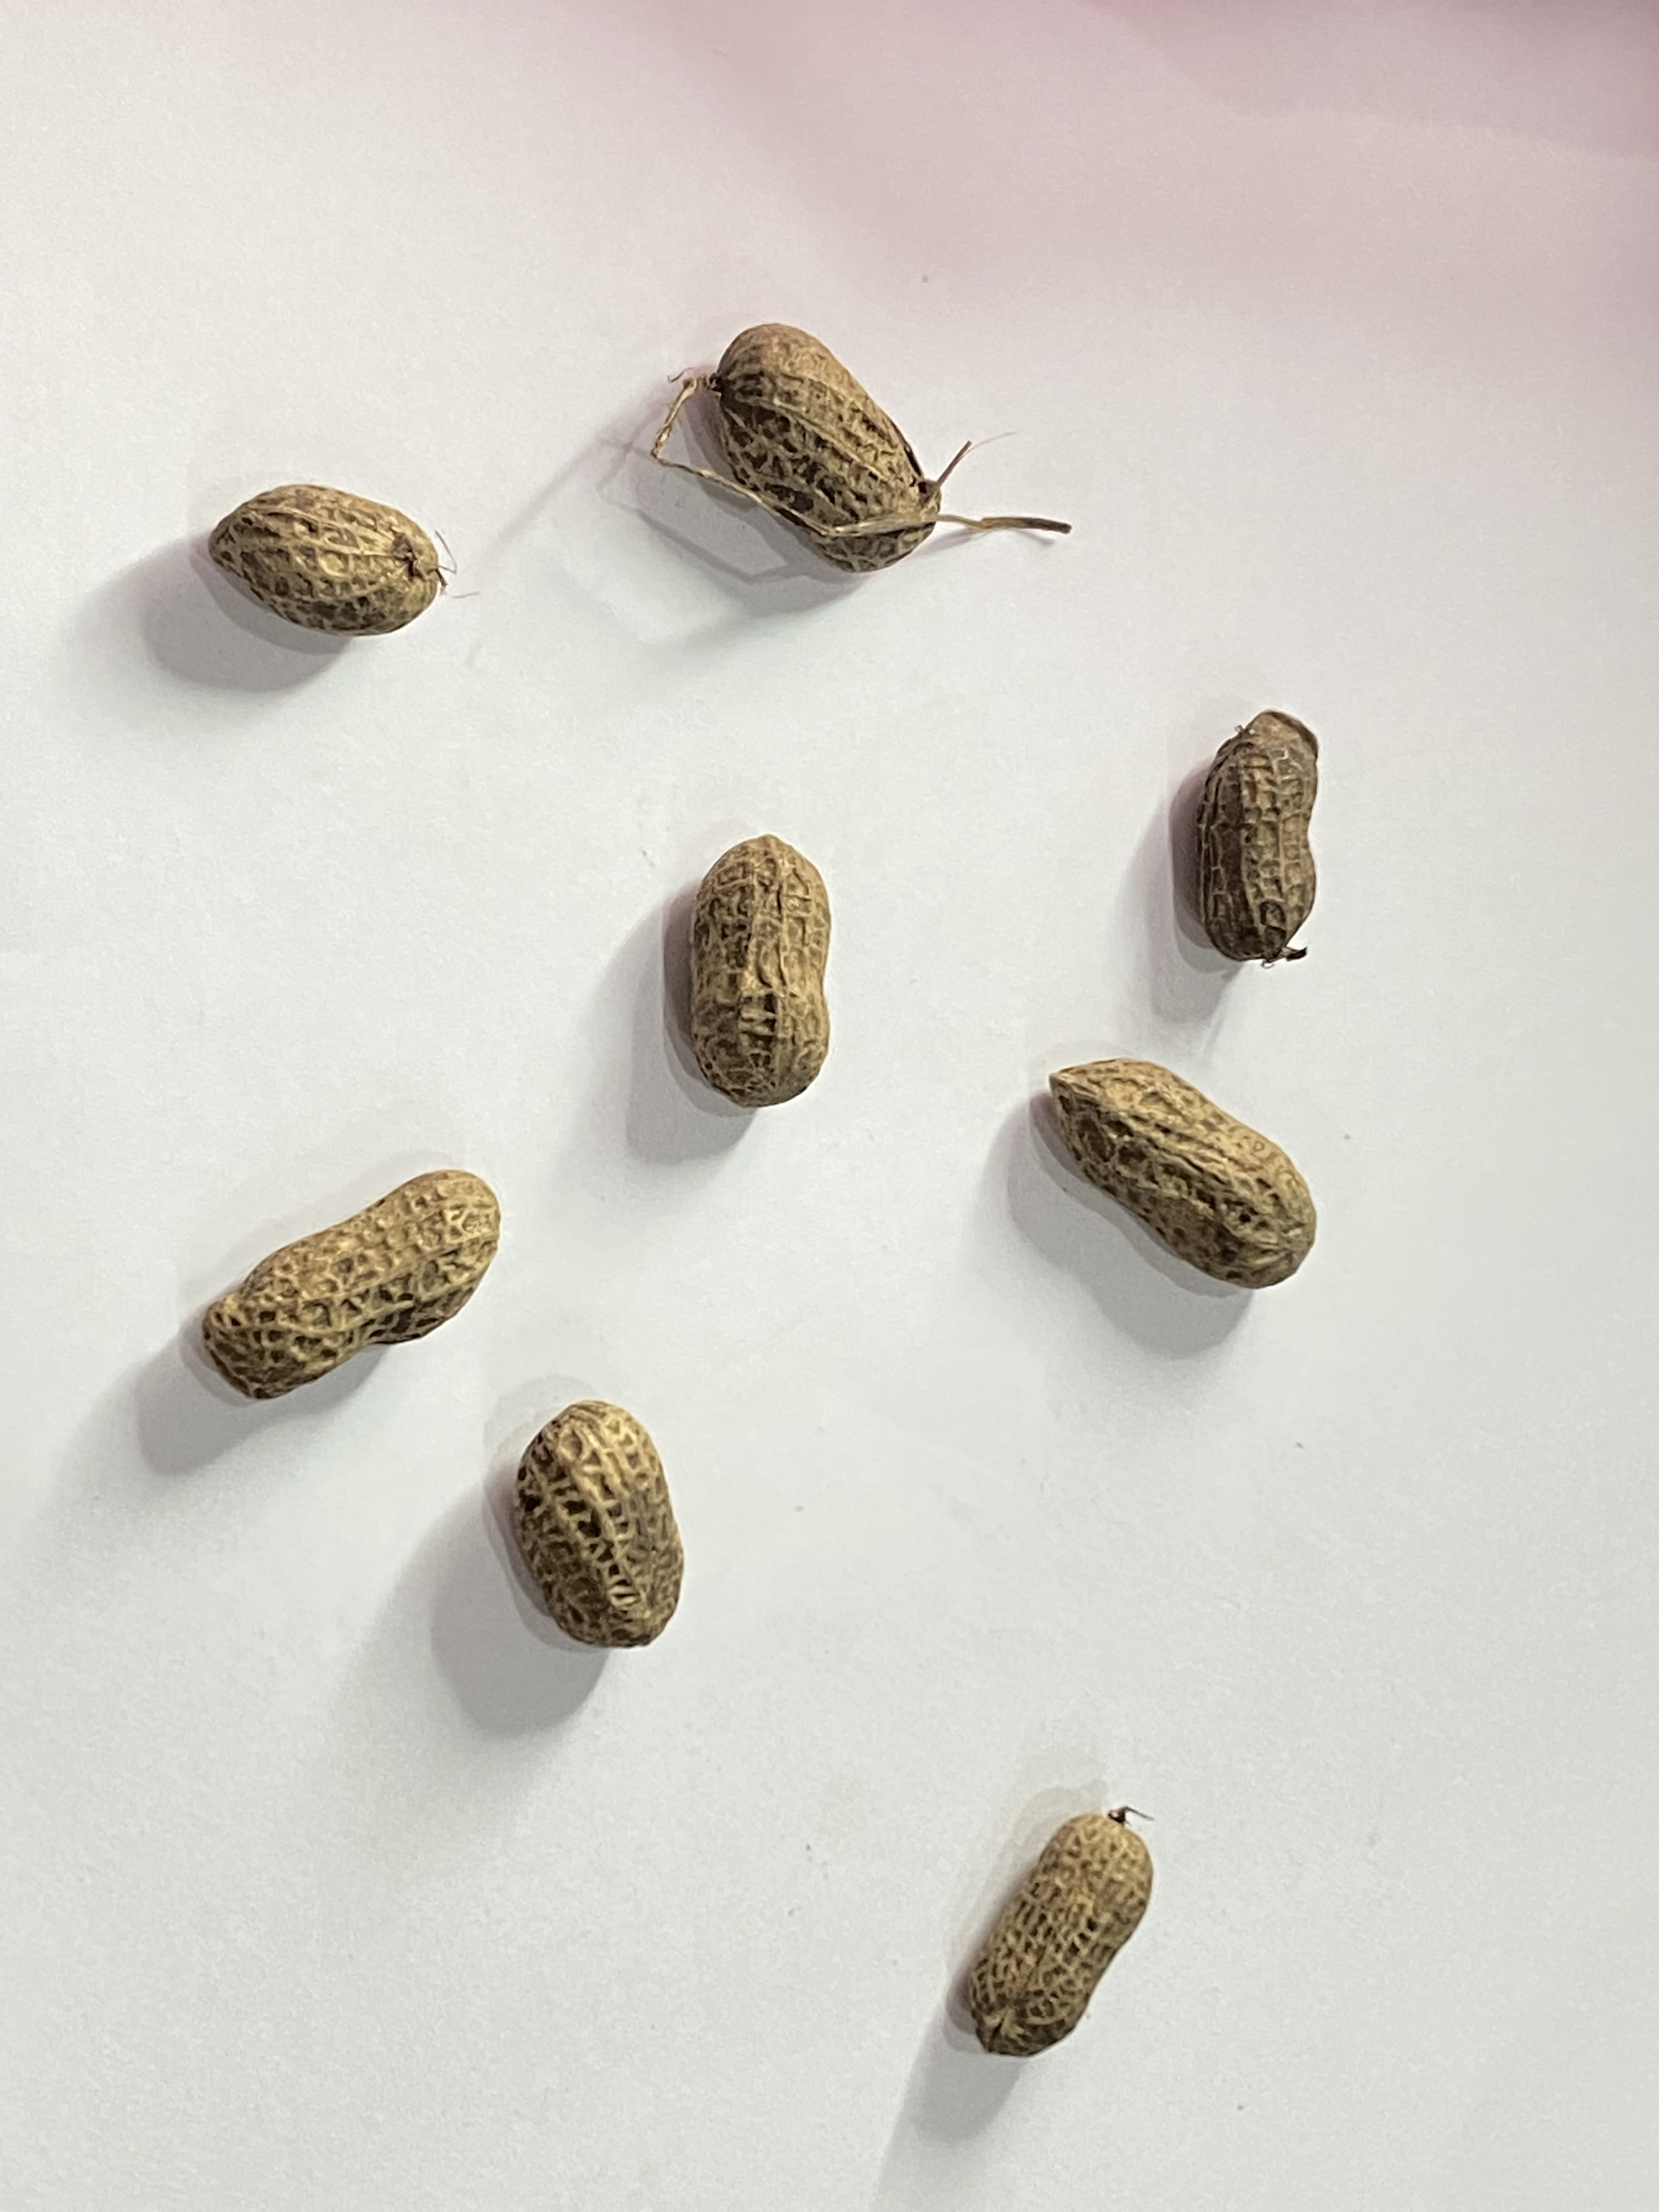kacang1: (484, 1395, 760, 1665), (152, 465, 498, 674)
kacang2: (941, 1747, 1213, 2080), (1033, 1038, 1356, 1308), (680, 275, 941, 599), (159, 1160, 505, 1399), (1126, 660, 1363, 989), (657, 813, 878, 1106)
